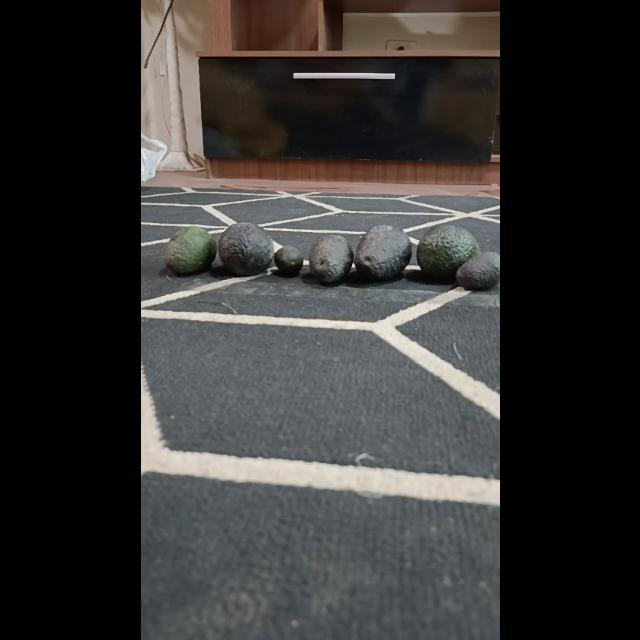Primera: (416, 224, 482, 280), (354, 225, 412, 281), (217, 222, 273, 276)
Segunda: (162, 227, 214, 276), (308, 234, 354, 286)
Tercera: (456, 251, 498, 291), (273, 245, 303, 277)
